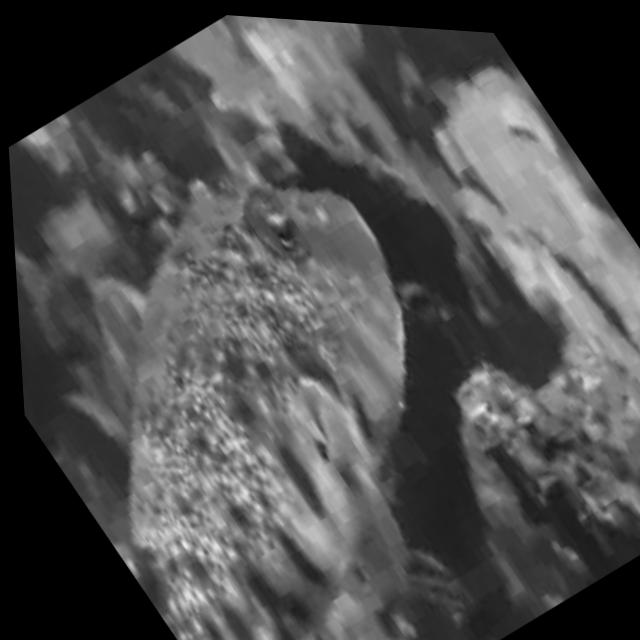Oyster-Closed: (408, 549, 468, 634)
Oyster-Indeterminate: (454, 360, 640, 601), (465, 186, 640, 398), (247, 23, 409, 160), (462, 113, 606, 265), (538, 365, 640, 470), (581, 224, 640, 342), (397, 26, 507, 73), (65, 394, 132, 456)
Oyster-Open: (267, 124, 482, 380)
